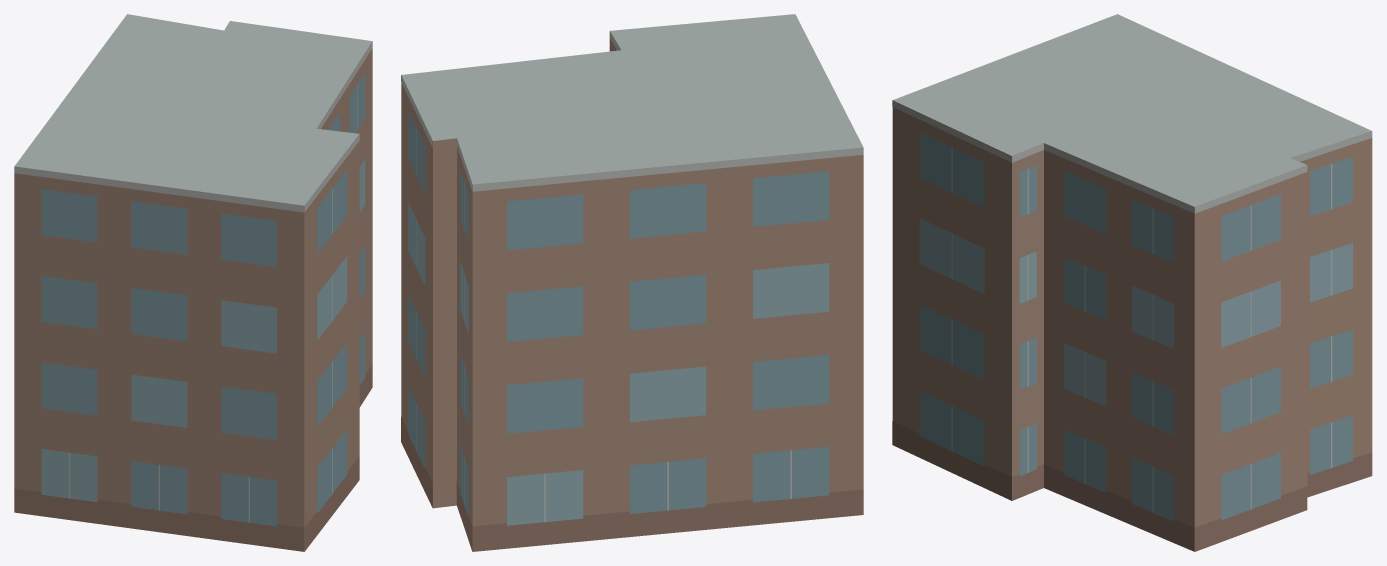
File: survey-upis-32597788.glb
3 renders of one model, left to right at view 1: azimuth 30°, elevation 25°; view 2: azimuth 150°, elevation 25°; view 3: azimuth 270°, elevation 25°, orthographic. The views are drawn at different scales.
Parts seen in each view (by area): view 1: survey-upis-32597788.tmp; view 2: survey-upis-32597788.tmp; view 3: survey-upis-32597788.tmp.
Boxes of the visible parts, bbox=[...] form: survey-upis-32597788.tmp: bbox=[14, 14, 372, 551]; survey-upis-32597788.tmp: bbox=[401, 14, 863, 551]; survey-upis-32597788.tmp: bbox=[892, 14, 1372, 551].
Bounding box in the file's own units: 15 × 12.49 × 15.76.
